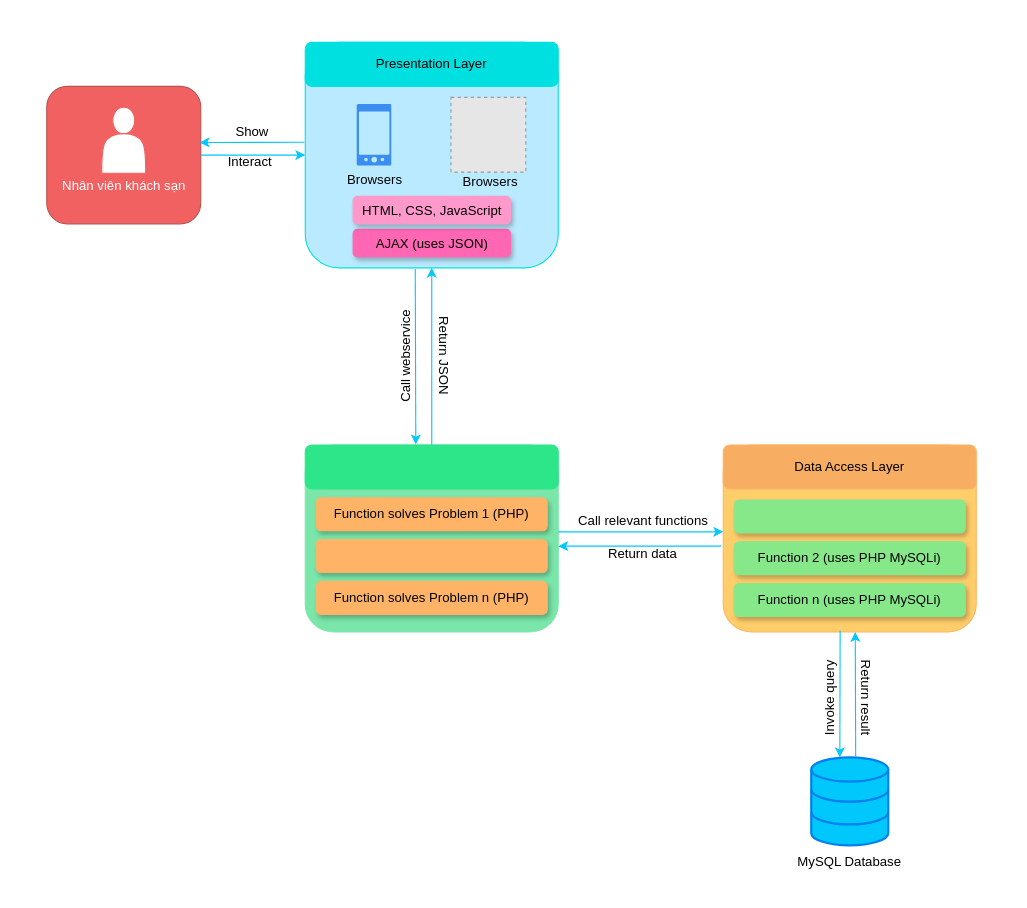
Image size: 1027x908. Some labels were removed from this diagram. Grey dashed boxes stand in for pictures. The centre of each missing label's shape, as x and y in pixels:
Business Layer: (431,466)
Function 1 (uses PHP MySQLi): (850,517)
Function solves Problem 2 (PHP): (432,557)
